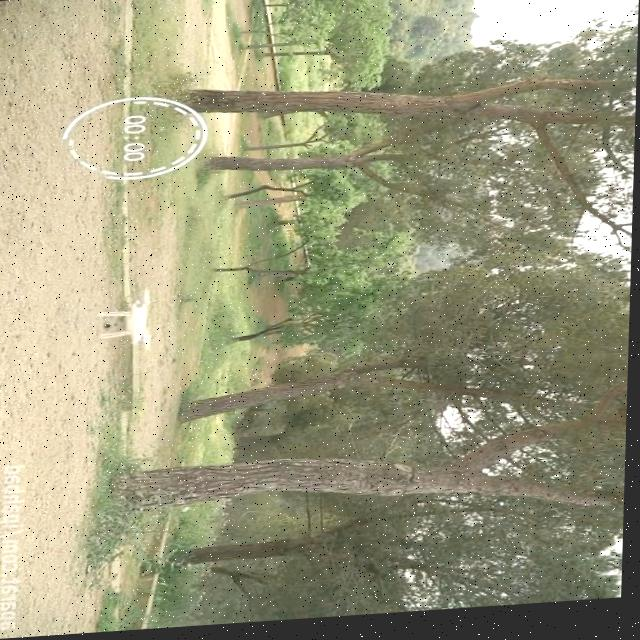drone: (94, 287, 163, 357)
